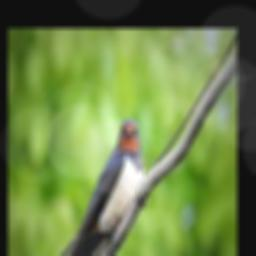Swallow: (32, 118, 145, 256)
